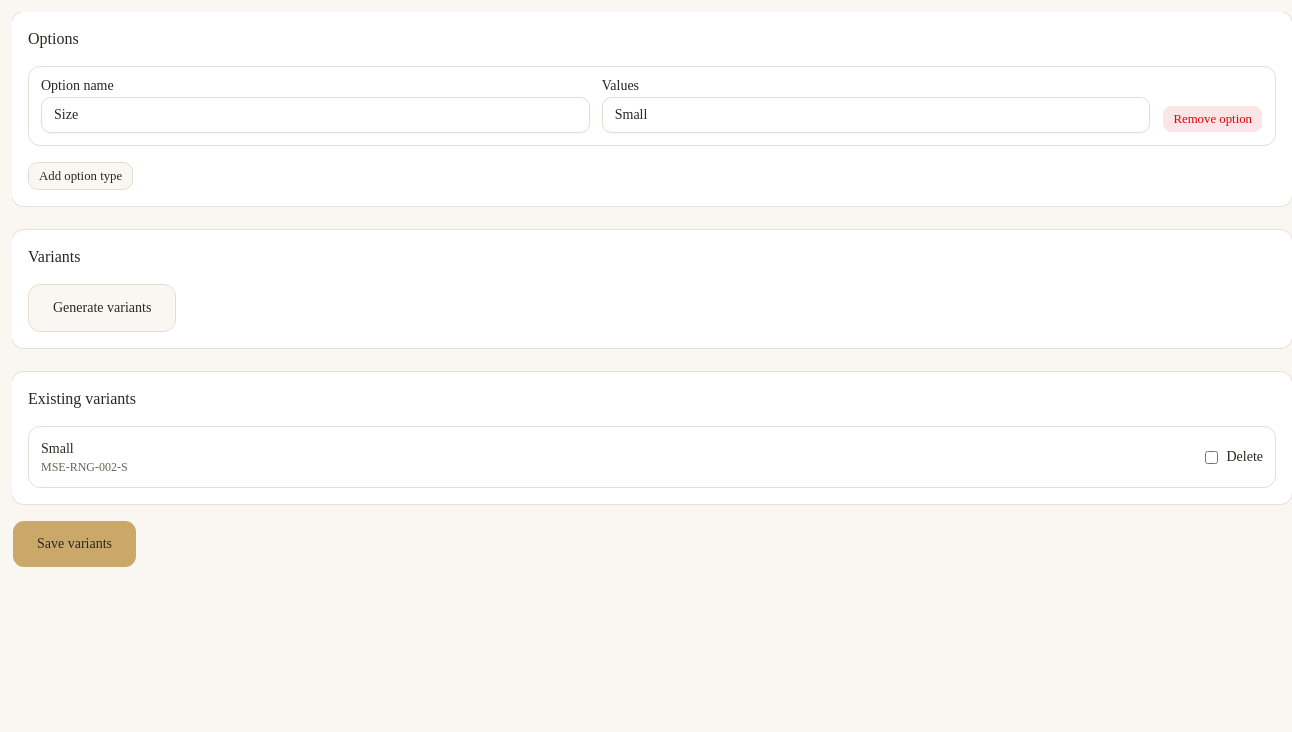
Test case: VariantStructurePanel › clears the "Variants saved." note as soon as the builder reports a further edit
Click the checkbox labelled "Delete". click: (1212, 457)
box: [1206,450,1218,464]
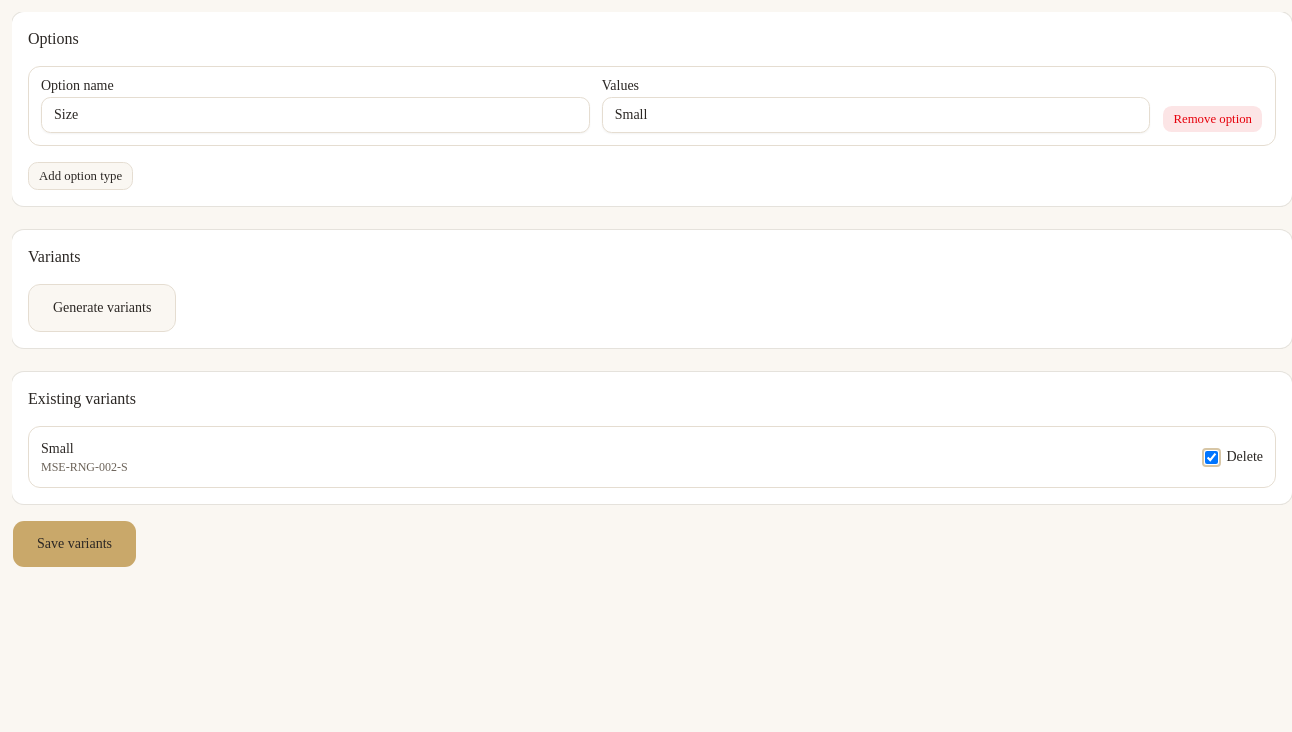
Click the button "Save variants". click: (74, 544)
box: [12,520,137,568]
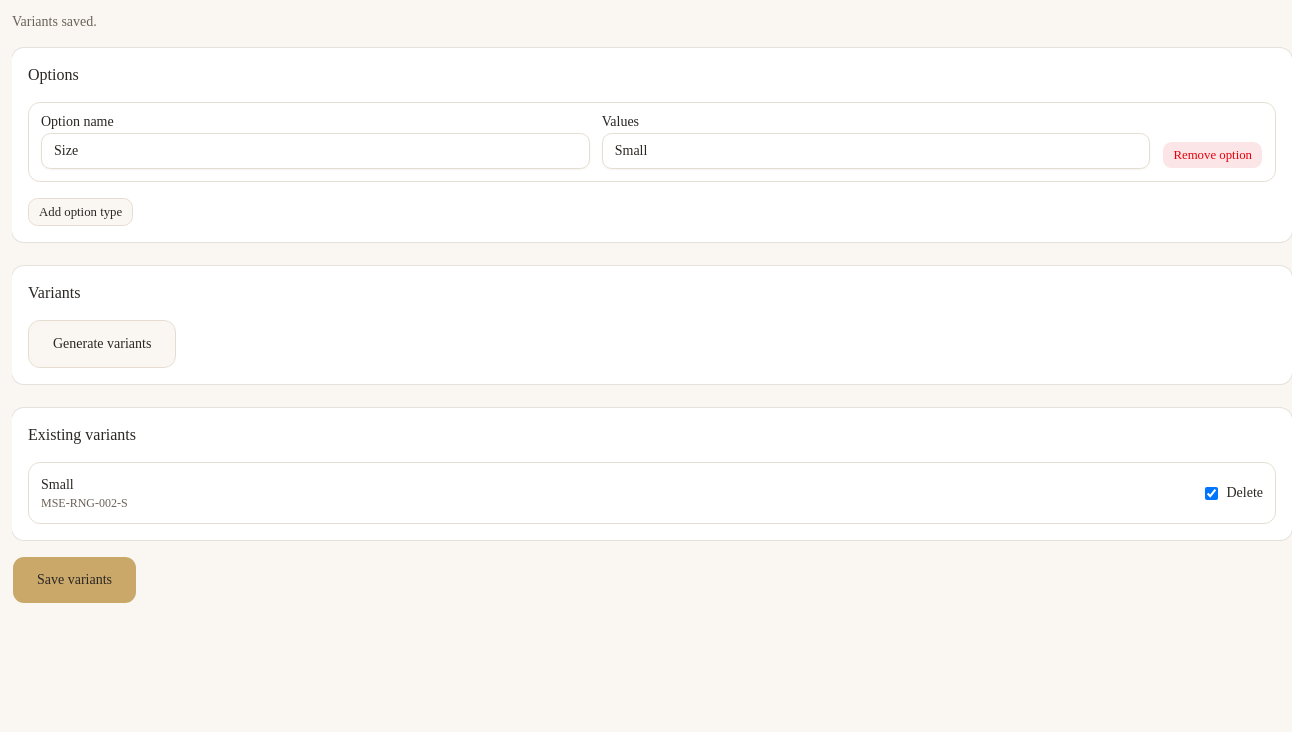
expect the text "Variants saved." is shown: met, box [12,14,97,29]
Click the checkbox labelled "Delete". click: (1212, 493)
box: [1206,486,1218,500]
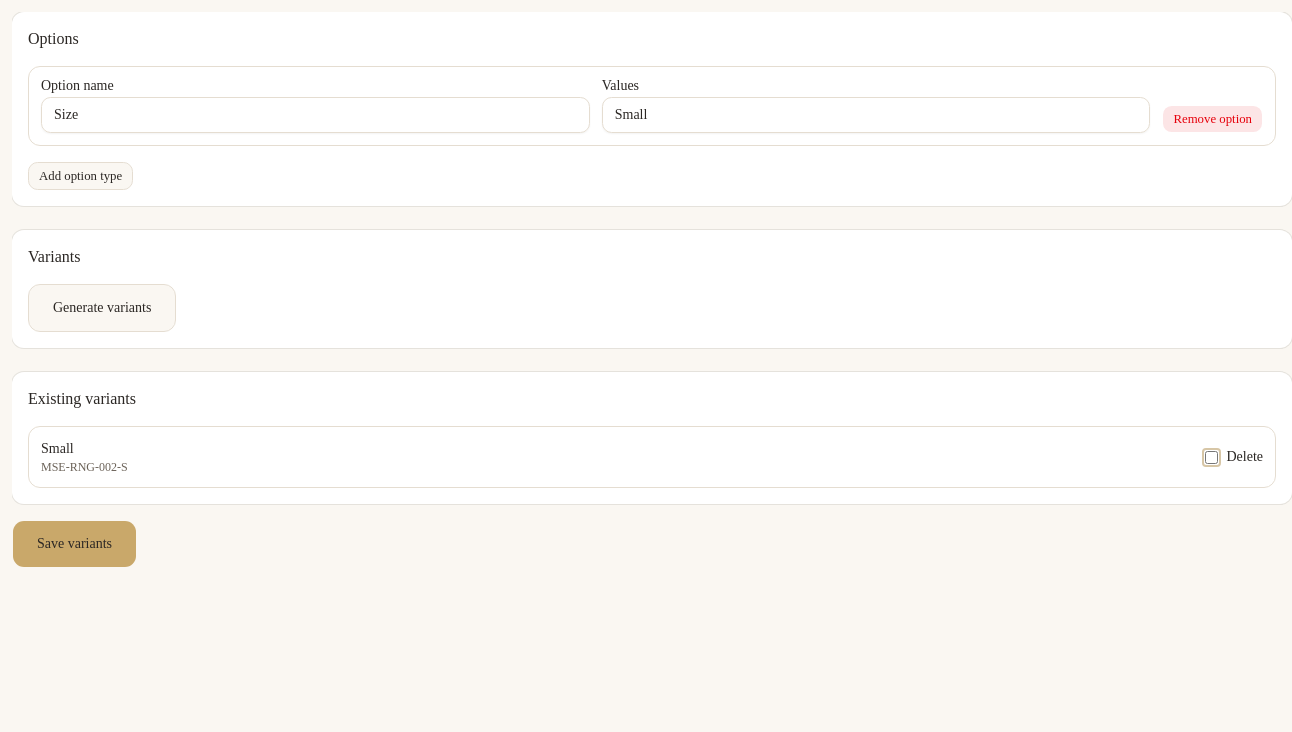
expect the text "Variants saved" is gone: met
